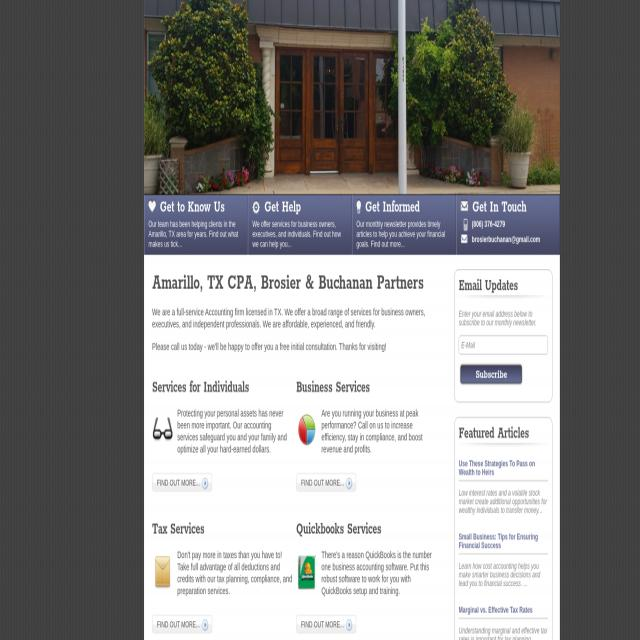button: (352, 195, 456, 255), (457, 195, 560, 255), (248, 196, 352, 255), (144, 197, 248, 254), (152, 471, 212, 492), (296, 471, 356, 492), (460, 364, 522, 384), (296, 614, 356, 634), (152, 615, 211, 634), (152, 552, 174, 590), (296, 552, 318, 590), (152, 411, 174, 448), (296, 411, 318, 448)
field: (459, 334, 548, 354)
